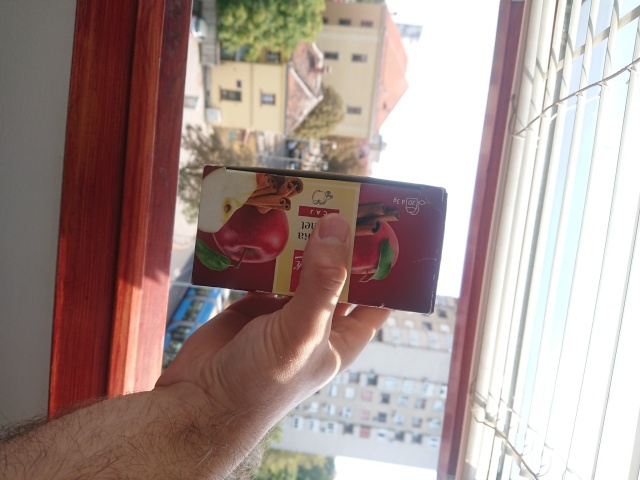Franck Apple Cinnamon Tea 60g: (189, 163, 449, 316)
